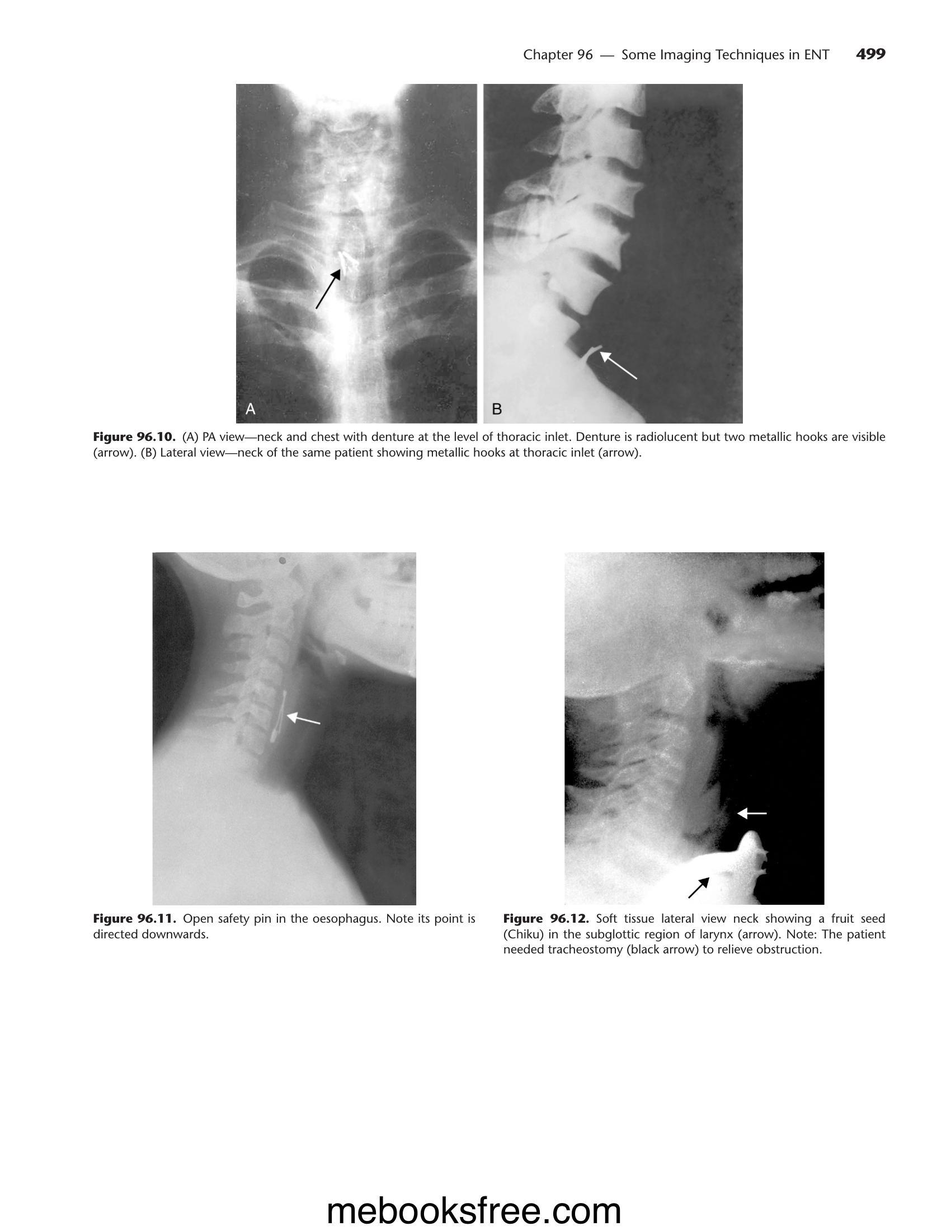caption: (93, 430, 886, 461), (503, 912, 887, 958), (92, 912, 476, 940), (491, 402, 503, 416), (245, 402, 256, 416)
header: (522, 47, 832, 64)
image: (152, 552, 416, 905), (564, 552, 825, 906), (483, 83, 742, 425), (235, 83, 478, 423)
